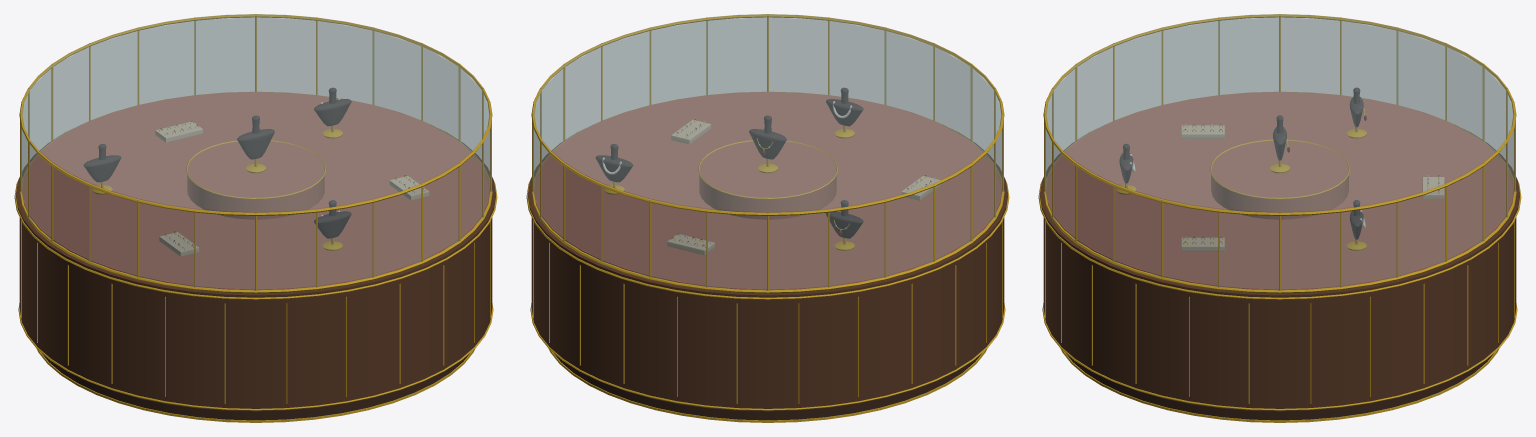
The model's file is prop_display_case_round.glb.
The picture shows the model from 3 angles, left to right: view 1: azimuth 30°, elevation 25°; view 2: azimuth 150°, elevation 25°; view 3: azimuth 270°, elevation 25°; orthographic projection.
Parts seen in each view (by area): view 1: Body, Glass, Display; view 2: Body, Glass, Display; view 3: Body, Glass, Display.
Part boxes in pixels (x1=…): Body: x1=14, y1=14, x2=497, y2=422; Glass: x1=21, y1=14, x2=490, y2=290; Display: x1=83, y1=87, x2=429, y2=256; Body: x1=526, y1=14, x2=1009, y2=422; Glass: x1=533, y1=14, x2=1002, y2=290; Display: x1=595, y1=87, x2=941, y2=254; Body: x1=1038, y1=14, x2=1521, y2=422; Glass: x1=1045, y1=14, x2=1514, y2=290; Display: x1=1116, y1=87, x2=1444, y2=251.
Bounding box in the file's own units: 2.45 × 1.2 × 2.45.
